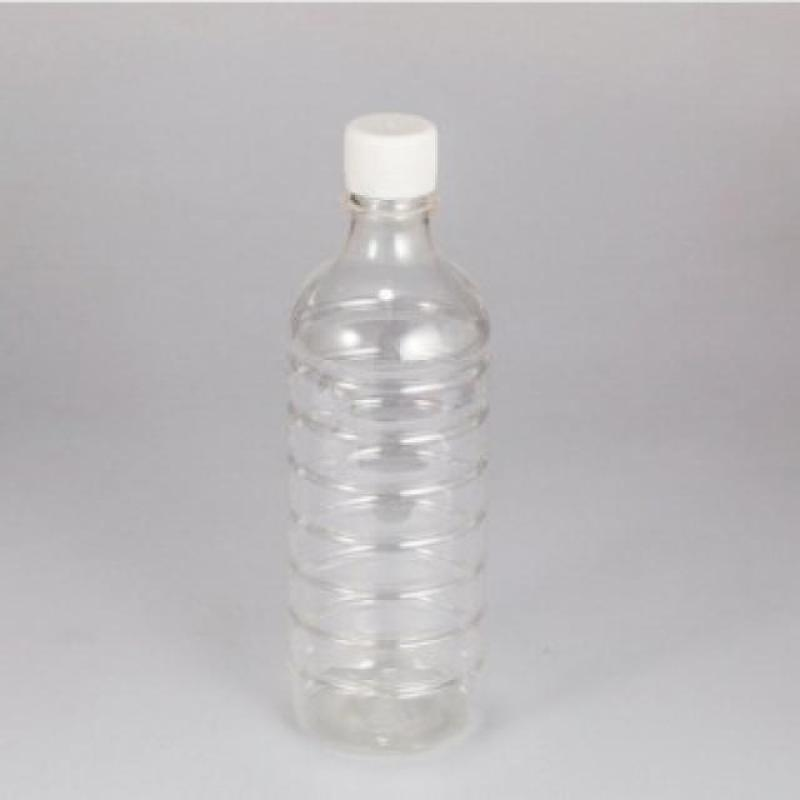botella: (280, 111, 499, 751)
